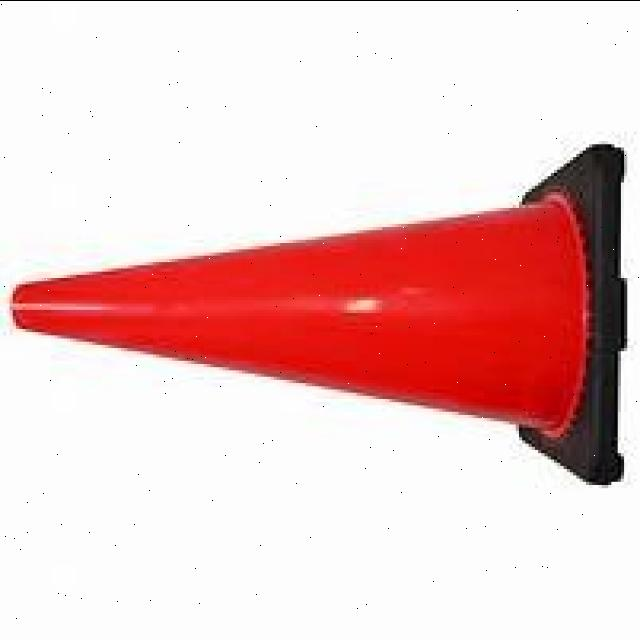traffic cone: (5, 134, 640, 494)
